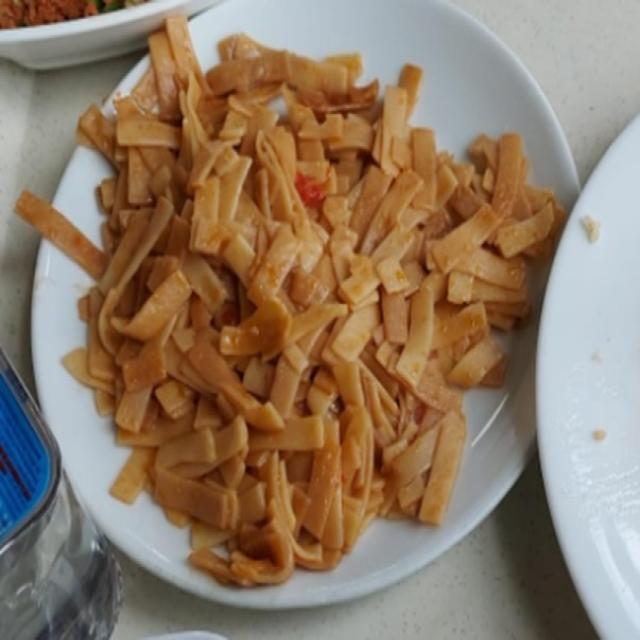ana_yemek: (20, 7, 569, 592)
